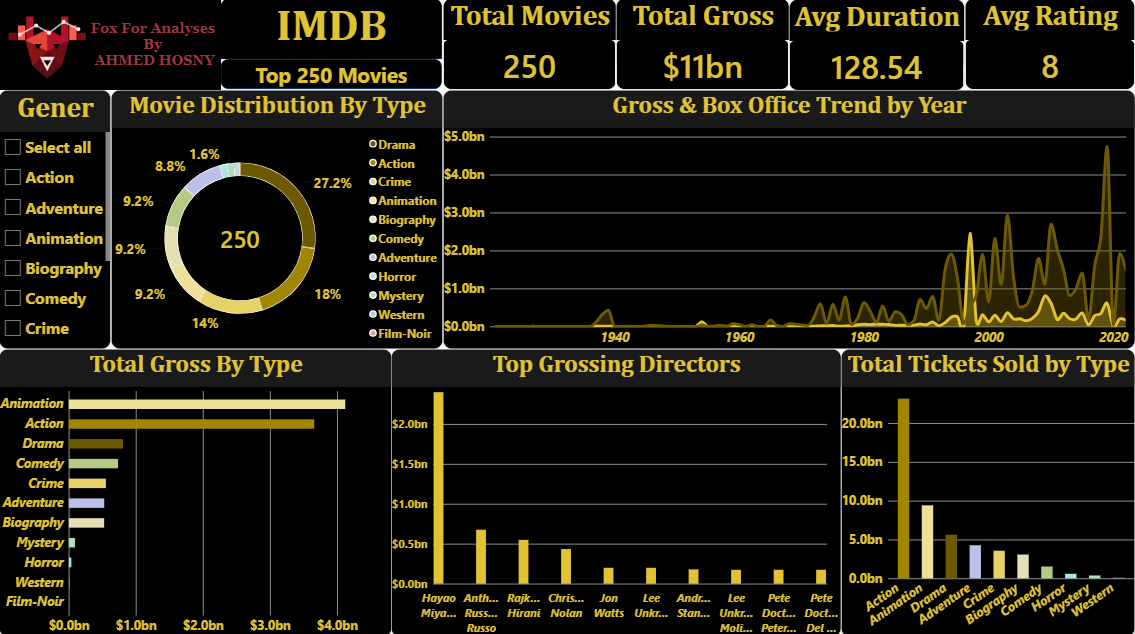

What the dashboard file says about the page in this screenshot:
{"tool":"powerbi","page":{"name":"Mian Dashboard","canvas":[1920,1080],"ordinal":0},"visuals":[{"type":"cardVisual","title":"Total Movies","fields":{"Data":["IMDB Top 250 Movies.Total Movies"]},"box":[750.4,0,292.8,155.2],"z":0},{"type":"cardVisual","title":"Total Gross","fields":{"Data":["IMDB Top 250 Movies.Total Gross"]},"box":[1042.8,0,292.8,155.2],"z":1000},{"type":"cardVisual","title":"Avg Rating","fields":{"Data":["IMDB Top 250 Movies.Avg Rating"]},"box":[1633,0,287,155.2],"z":2000},{"type":"cardVisual","title":"Avg Duration","fields":{"Data":["IMDB Top 250 Movies.Avg Duration (Min)"]},"box":[1335.2,1.7,296.7,155.2],"z":3000},{"type":"lineChart","title":"Gross & Box Office Trend by Year","fields":{"Category":["IMDB Top 250 Movies.year"],"Y":["IMDB Top 250 Movies.Total Gross","Sum(IMDB Top 250 Movies.box_office)"]},"box":[750.4,155.5,1169.6,437.7],"z":4000},{"type":"slicer","title":"Gener","fields":{"Values":["Type.Type"]},"box":[0,155.5,189.3,437.7],"z":5000},{"type":"barChart","title":"Total Gross By Type","fields":{"Category":["Type.Type"],"Y":["IMDB Top 250 Movies.Total Gross"]},"box":[0,593.2,664.2,486.8],"z":6000},{"type":"donutChart","title":"Movie Distribution By Type","fields":{"Category":["Type.Type"],"Y":["IMDB Top 250 Movies.Total Movies"]},"box":[189.3,155.5,561.1,437.7],"z":7000},{"type":"columnChart","title":"Top Grossing Directors","fields":{"Category":["IMDB Top 250 Movies.directors"],"Y":["IMDB Top 250 Movies.Total Gross"]},"box":[662.5,593.2,760.6,486.8],"z":8000},{"type":"image","box":[0,0,162.9,155.2],"z":9000,"group":"g1"},{"type":"shape","title":"IMDB","box":[374.3,0,376.2,155.2],"z":9000},{"type":"group","id":"g1","title":"Group 1","box":[0,0,375.4,155.2],"z":10000},{"type":"textbox","box":[145.6,36.4,229.8,86.4],"z":10001,"group":"g1"},{"type":"columnChart","title":"Total Tickets Sold by Type","fields":{"Category":["Type.Type"],"Y":["Sum(IMDB Top 250 Movies.box_office)"]},"box":[1423.1,593.2,496.9,486.8],"z":11000}]}

Visuals, with their boxes in screenshot pixels (x1, y1, x2, y2), scaled from the page's 1920x1080 canvas onto the 1135x634 screenshot:
"Total Movies" cardVisual: 444 0 617 91
"Total Gross" cardVisual: 616 0 790 91
"Avg Rating" cardVisual: 965 0 1134 91
"Avg Duration" cardVisual: 789 1 965 92
"Gross & Box Office Trend by Year" lineChart: 444 91 1134 348
"Gener" slicer: 0 91 112 348
"Total Gross By Type" barChart: 0 348 393 633
"Movie Distribution By Type" donutChart: 112 91 444 348
"Top Grossing Directors" columnChart: 392 348 841 633
image: 0 0 96 91
"IMDB" shape: 221 0 444 91
"Group 1" group: 0 0 222 91
textbox: 86 21 222 72
"Total Tickets Sold by Type" columnChart: 841 348 1134 633
